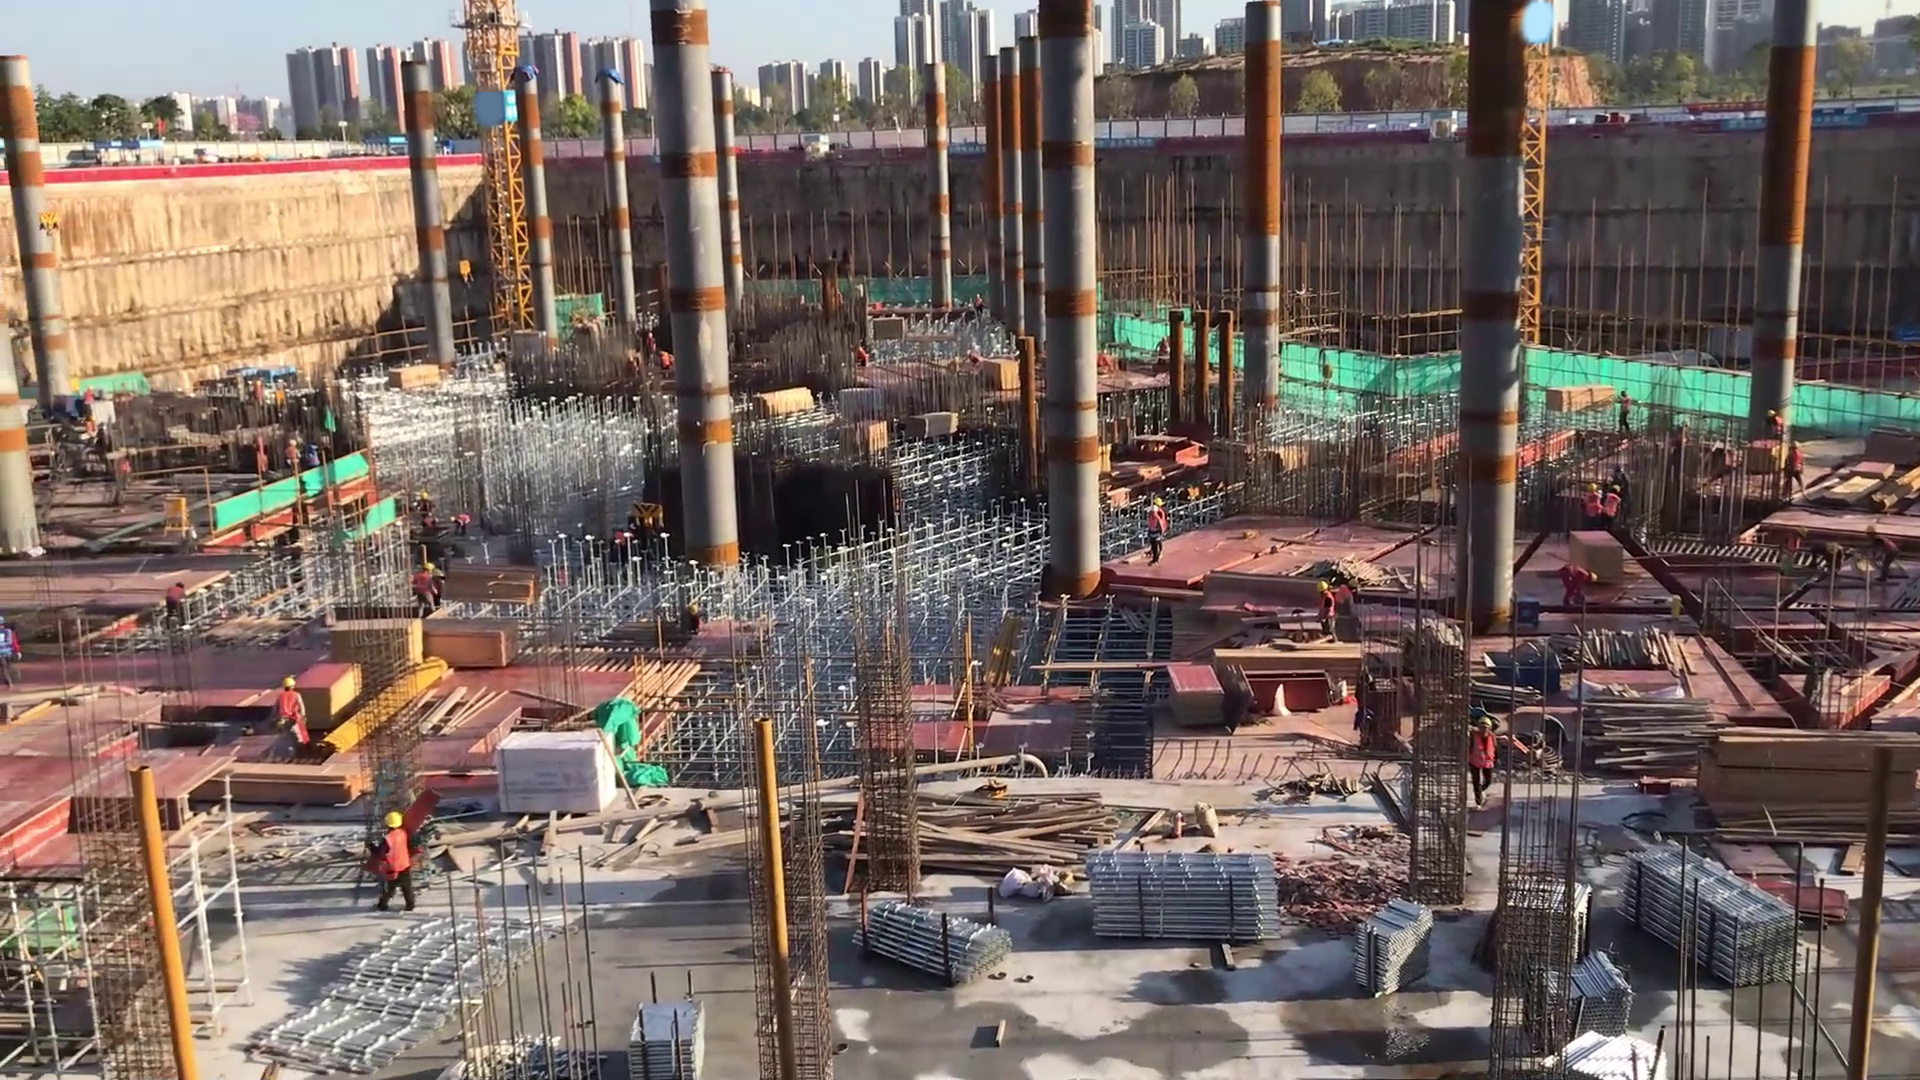helmet: (385, 810, 404, 831), (282, 673, 297, 693), (1476, 715, 1493, 730), (1586, 565, 1600, 584), (1316, 577, 1331, 595), (420, 562, 436, 571), (285, 438, 299, 448), (1586, 483, 1598, 494), (1609, 483, 1621, 495), (1790, 440, 1801, 452), (419, 489, 431, 500), (1152, 496, 1163, 506), (1350, 577, 1361, 588), (448, 514, 457, 526), (175, 578, 185, 588), (1767, 409, 1778, 418)
person: (366, 808, 423, 932), (260, 672, 306, 763), (1465, 712, 1507, 811), (1313, 577, 1340, 655), (1560, 559, 1597, 611), (1, 612, 29, 681), (1786, 435, 1810, 510), (161, 571, 188, 635), (413, 560, 440, 623), (1334, 577, 1362, 620), (1143, 508, 1163, 565), (1583, 479, 1602, 535), (1606, 476, 1623, 539), (1764, 402, 1787, 447), (280, 432, 301, 480), (1615, 387, 1634, 440), (451, 511, 475, 541), (416, 487, 435, 520), (643, 330, 657, 365), (305, 444, 320, 473)
vest: (377, 828, 417, 886), (1468, 731, 1500, 775), (276, 690, 303, 728), (1563, 565, 1590, 591), (1603, 490, 1622, 523), (1319, 596, 1337, 628), (1336, 583, 1353, 614), (415, 572, 433, 601), (1584, 491, 1602, 517), (1147, 516, 1161, 545)
